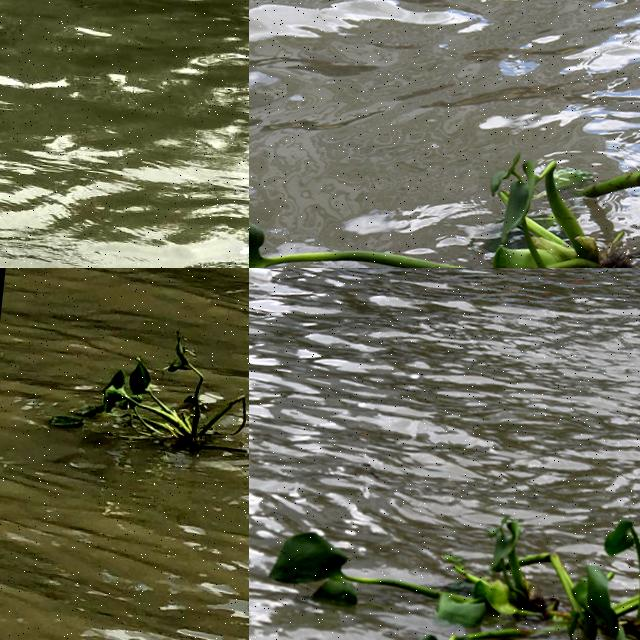water-hyacinth: (250, 98, 640, 269), (262, 482, 640, 640), (50, 320, 250, 469)
